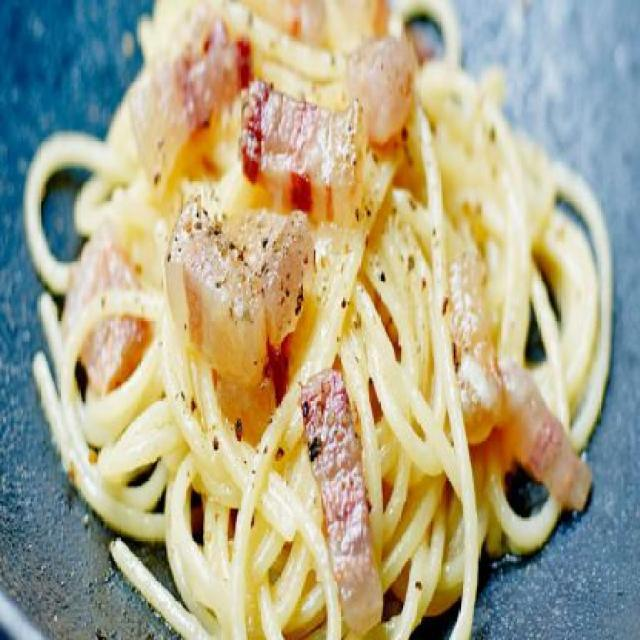Oil pasta: (53, 25, 610, 621)
